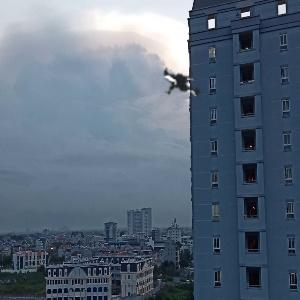drone: (114, 36, 242, 164)
